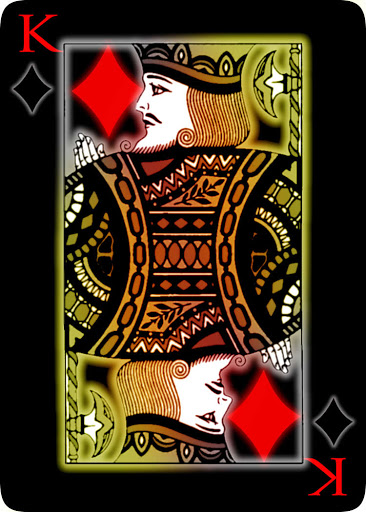king of diamonds: (9, 5, 357, 502)
